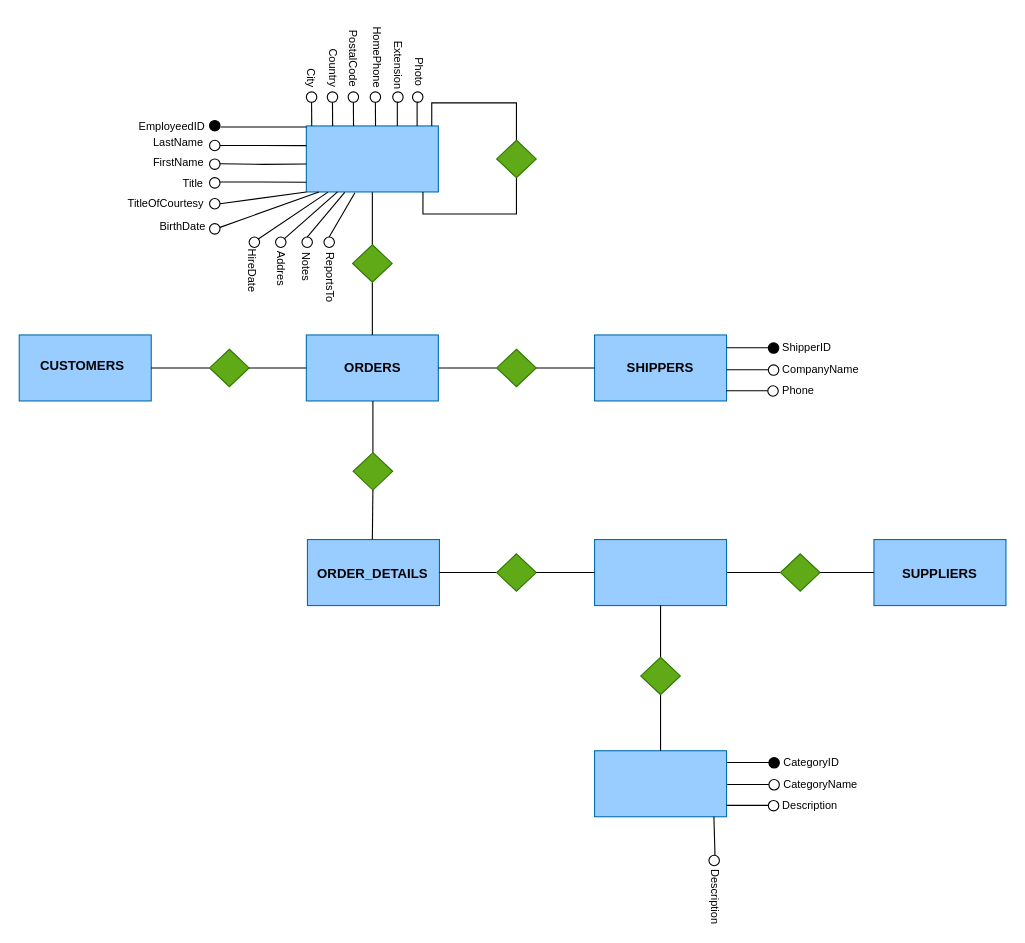
The diagram is 1025 pixels wide and 943 high, and some of its shapes have lost their labels. The shapes that lost their labels are listed below. From the top down, each one's centre as x and y in pixels, then its label:
At point (371, 158): "EMPLOYEES".
At point (660, 572): "PRODUCTS".
At point (660, 783): "CATEGORIES".
